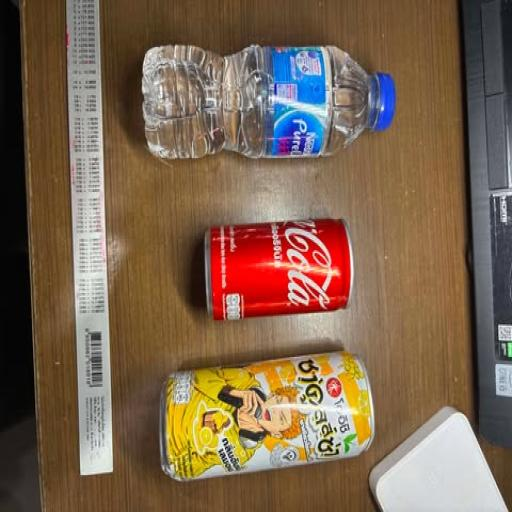bottle: (104, 24, 442, 176)
canned: (139, 197, 405, 318), (153, 345, 381, 479)
